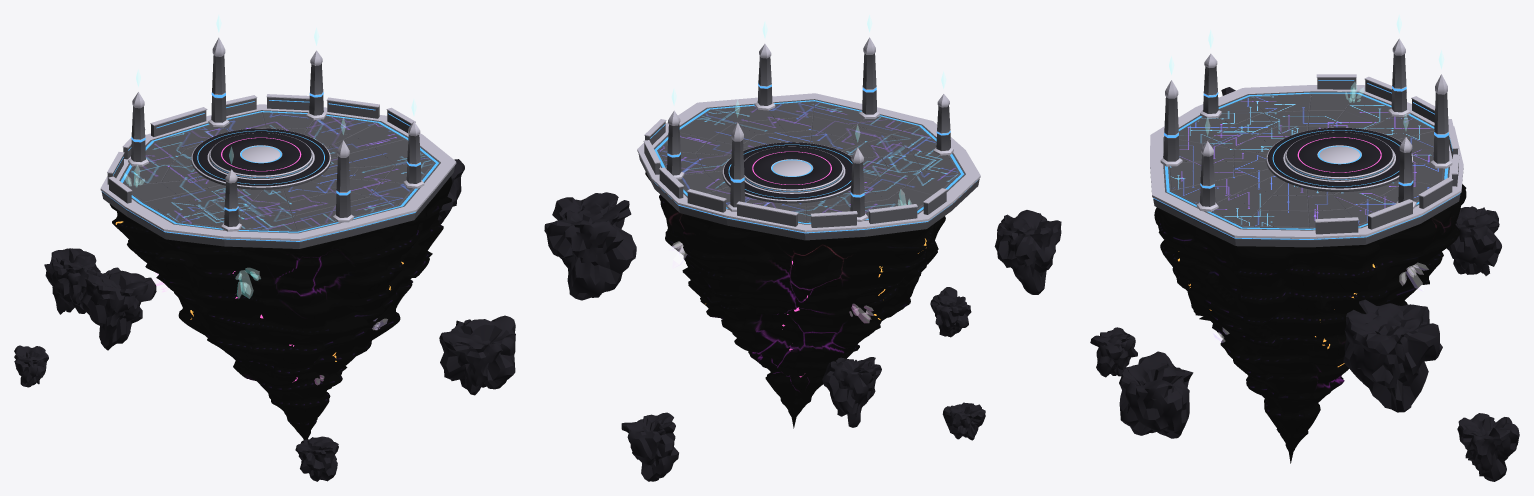
Rendered from Island_01_web.glb.
3 views of the same model, side by side, from view 1: azimuth 30°, elevation 25°; view 2: azimuth 150°, elevation 25°; view 3: azimuth 270°, elevation 25° (orthographic). The views are drawn at different scales.
Visible parts, largest first — view 1: Island_01_Rock, Island_01_Deck, Island_01, Island_01_Architecture, Island_01_Plaza; view 2: Island_01_Rock, Island_01_Deck, Island_01, Island_01_Architecture, Island_01_Plaza; view 3: Island_01_Rock, Island_01_Deck, Island_01, Island_01_Architecture, Island_01_Plaza.
Part boxes in pixels (box(x1,y1,x2,y2)): Island_01_Rock: box(109, 146, 452, 439); Island_01_Deck: box(100, 104, 456, 248); Island_01: box(14, 159, 515, 481); Island_01_Architecture: box(107, 16, 424, 231); Island_01_Plaza: box(191, 128, 330, 189); Island_01_Rock: box(645, 172, 945, 428); Island_01_Deck: box(637, 93, 980, 240); Island_01: box(544, 189, 1061, 481); Island_01_Architecture: box(643, 15, 953, 227); Island_01_Plaza: box(722, 142, 852, 203); Island_01_Rock: box(1154, 121, 1466, 463); Island_01_Deck: box(1150, 85, 1463, 247); Island_01: box(1090, 82, 1519, 481); Island_01_Architecture: box(1160, 15, 1459, 234); Island_01_Plaza: box(1266, 127, 1412, 192).
Size of the model in its own units: 33.82 by 28.4 by 27.15.
Materials: 11 (1 with a texture image).
